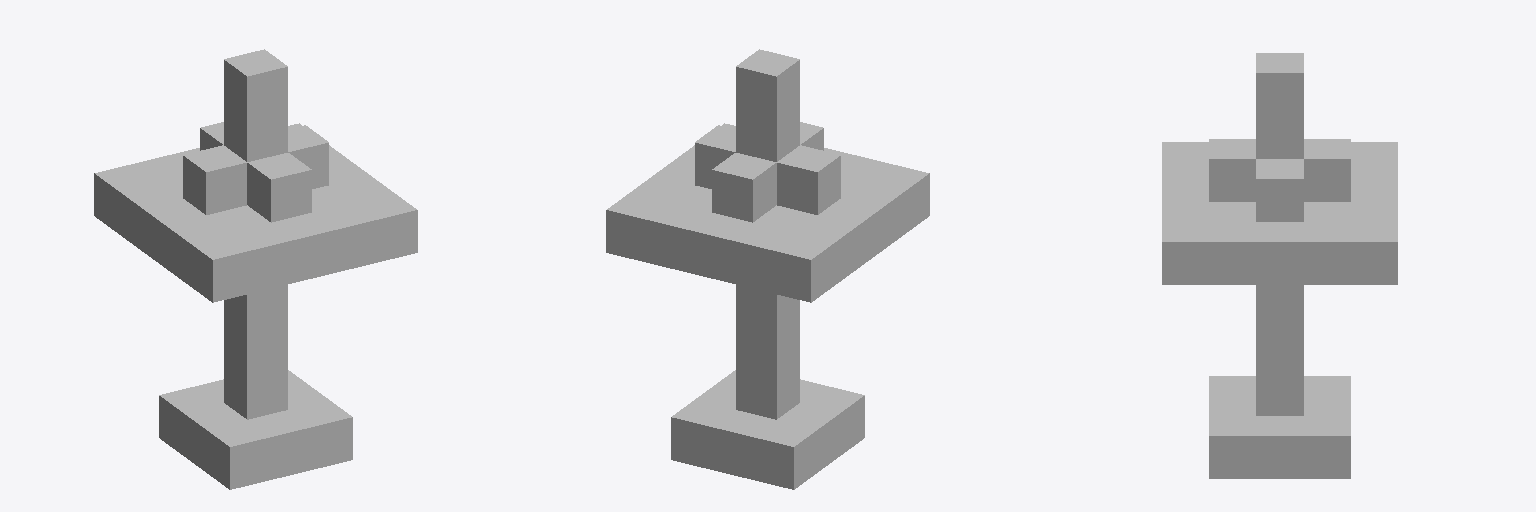
Rendered from element_table.obj.
3 views of the same model, side by side, from view 1: azimuth 30°, elevation 25°; view 2: azimuth 150°, elevation 25°; view 3: azimuth 270°, elevation 25° (orthographic).
Parts seen in each view (by area): view 1: cube; view 2: cube; view 3: cube.
Boxes of the visible parts, x1,y1,x2,y2 form: cube: [94, 49, 417, 489]; cube: [606, 49, 929, 489]; cube: [1162, 53, 1397, 478].
Size of the model in its own units: 0.625 by 1.12 by 0.625.